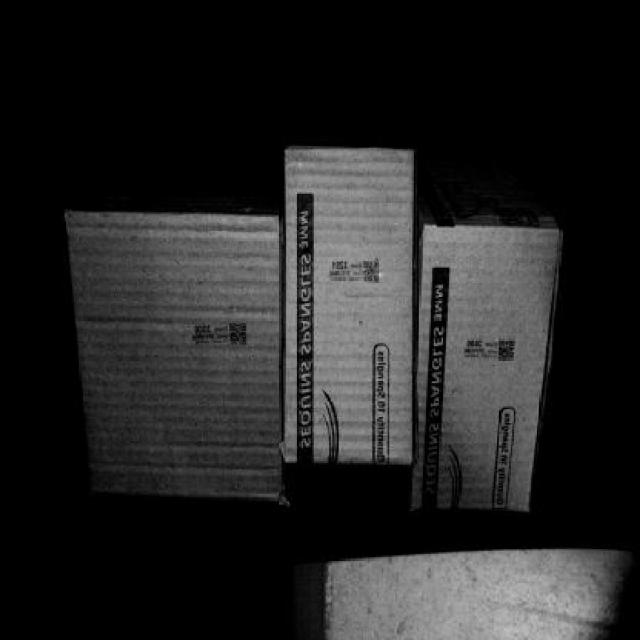cardboxes: (69, 216, 276, 498), (409, 234, 556, 512), (285, 157, 409, 463)
